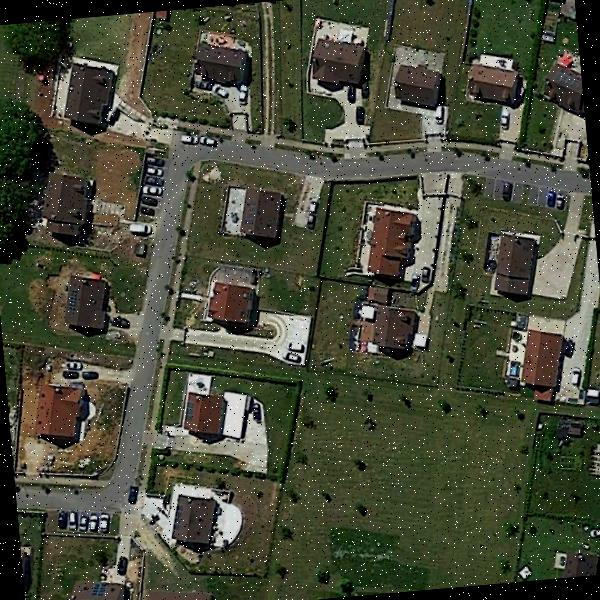Buildings: (32, 378, 93, 445), (512, 326, 570, 396), (176, 384, 252, 436), (360, 204, 414, 274), (352, 302, 418, 357), (310, 31, 369, 89), (69, 65, 120, 131), (488, 239, 544, 298), (465, 56, 524, 110), (39, 173, 88, 237), (390, 59, 446, 111), (204, 278, 258, 331), (192, 37, 255, 82), (534, 62, 584, 116), (168, 499, 222, 548), (231, 189, 283, 233), (66, 274, 106, 328), (67, 581, 126, 600), (132, 595, 212, 600)
